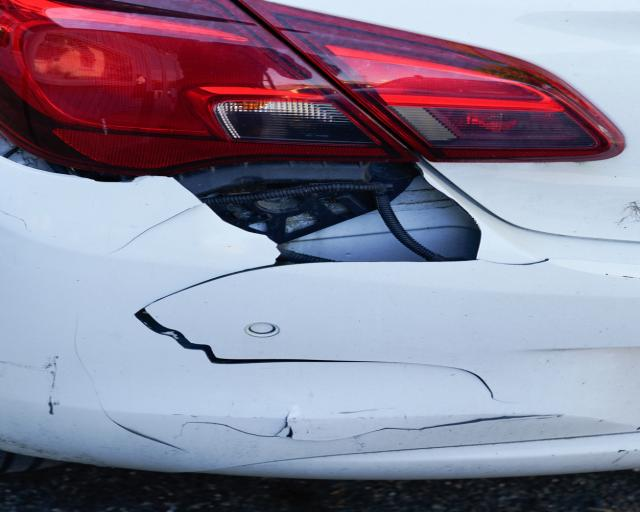crack: (132, 248, 521, 405), (73, 314, 193, 454), (173, 409, 565, 442), (105, 203, 205, 256), (0, 208, 27, 232), (480, 259, 550, 265)
